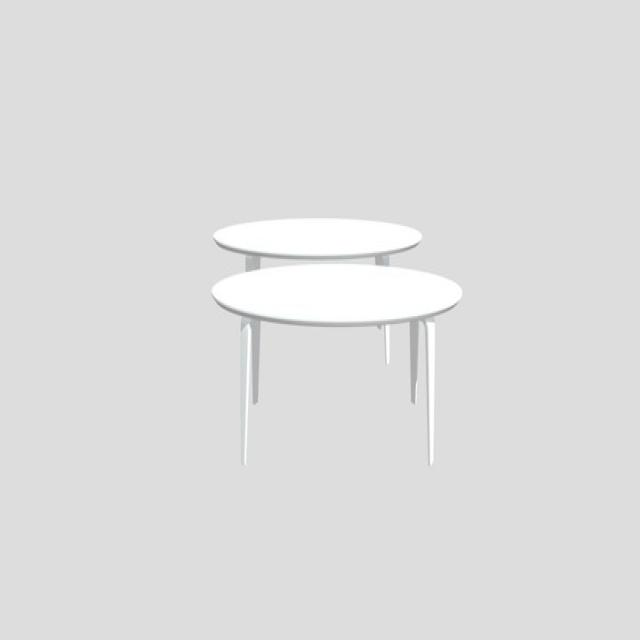table: (212, 214, 462, 467)
